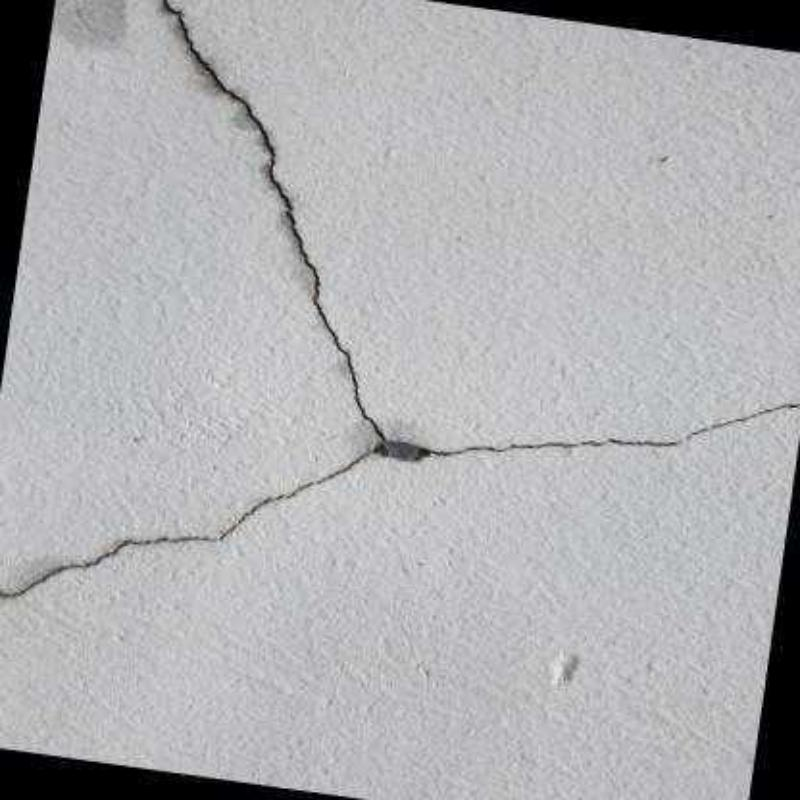pothole: (0, 0, 800, 597)
